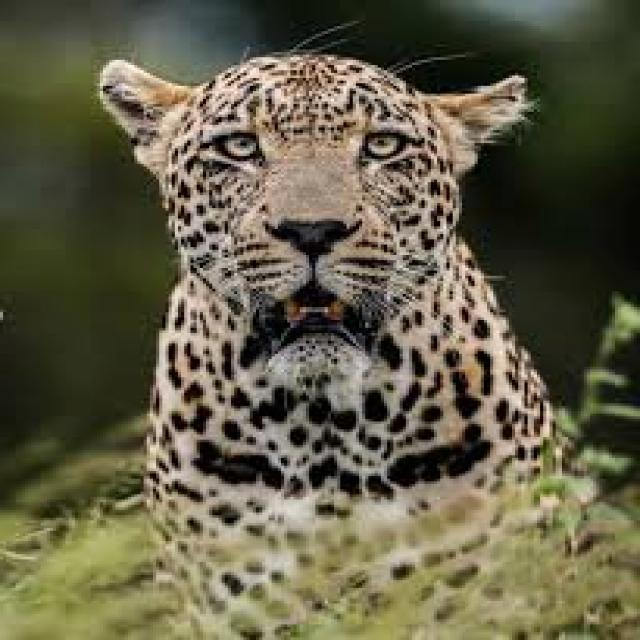leopard: (103, 55, 553, 637)
